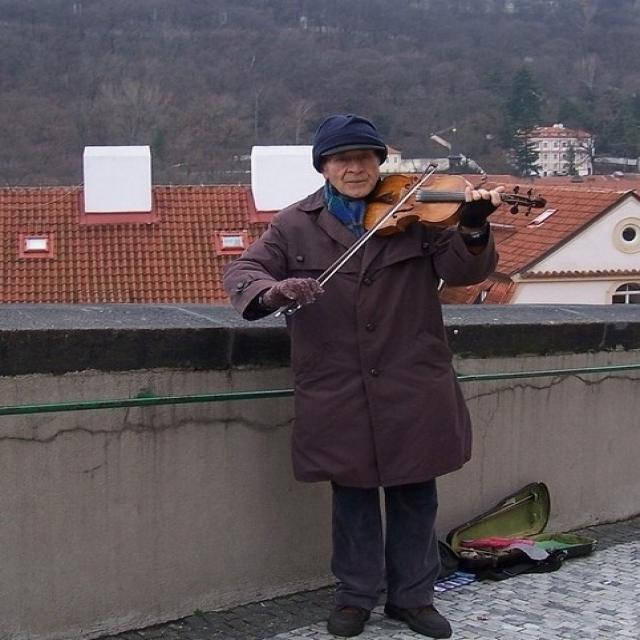violin: (362, 171, 546, 241)
